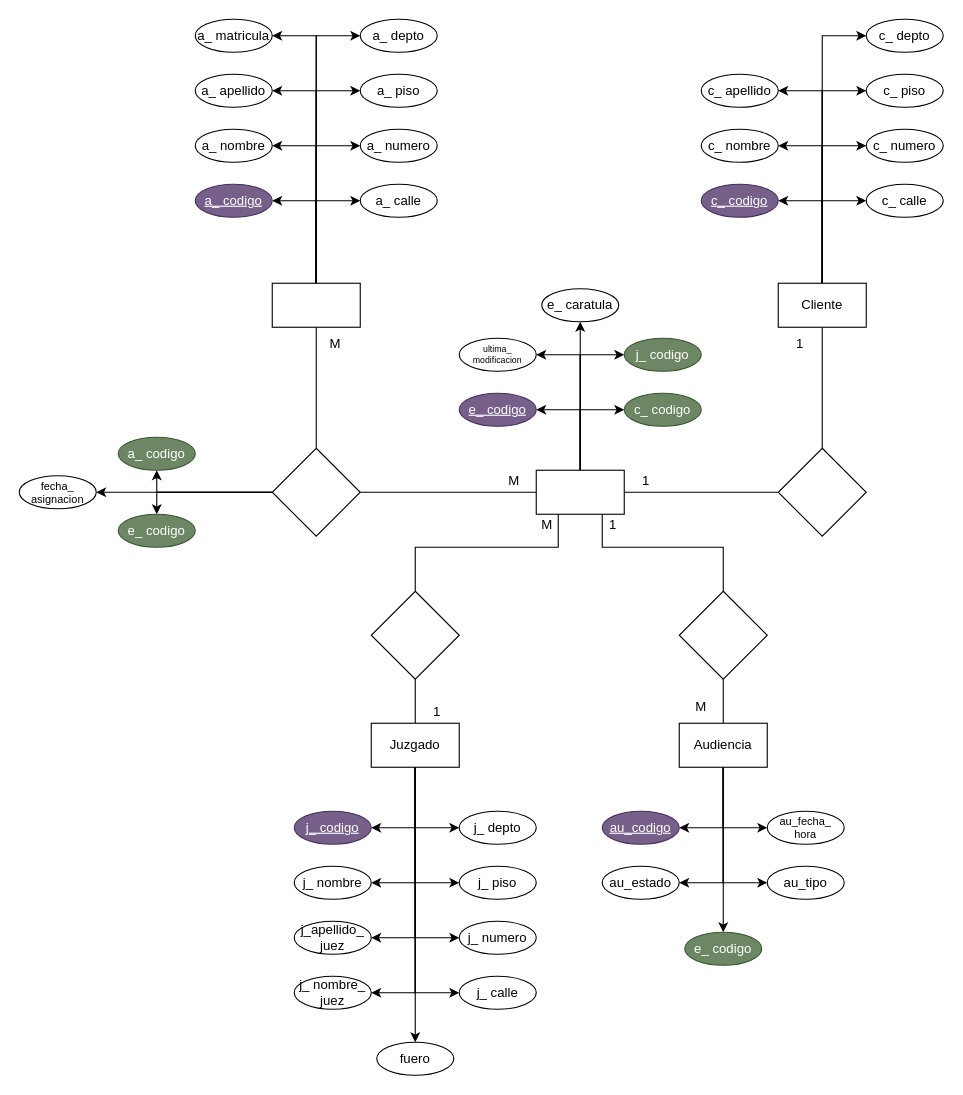
The diagram is 963 pixels wide and 1095 high, and some of its shapes have lost their labels. The centre of each missing label's shape, as x and y in pixels:
Abogado: point 315,304
Expediente: point 579,491
Interviene: point 414,634
Pertenece: point 722,634
Posee: point 821,491
Representa: point 315,491
